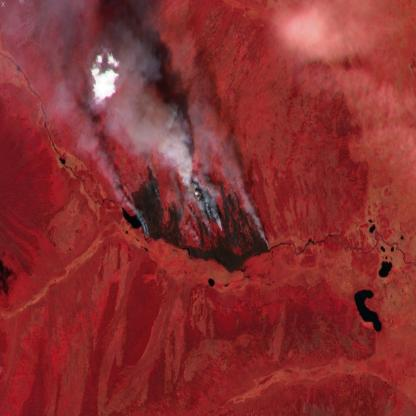fire: (130, 159, 274, 253)
